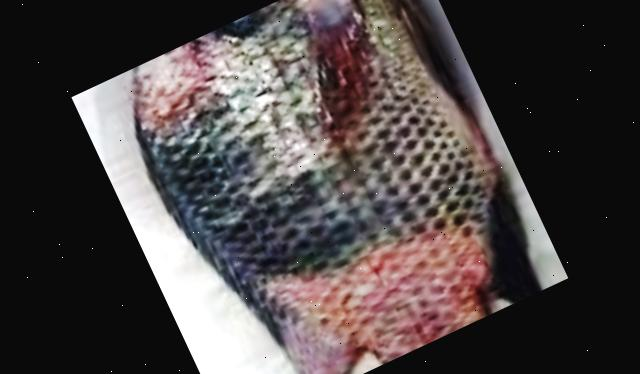Tilapia Lake Virus -TiLV-: (134, 0, 542, 374), (133, 0, 537, 374), (133, 0, 537, 374)
